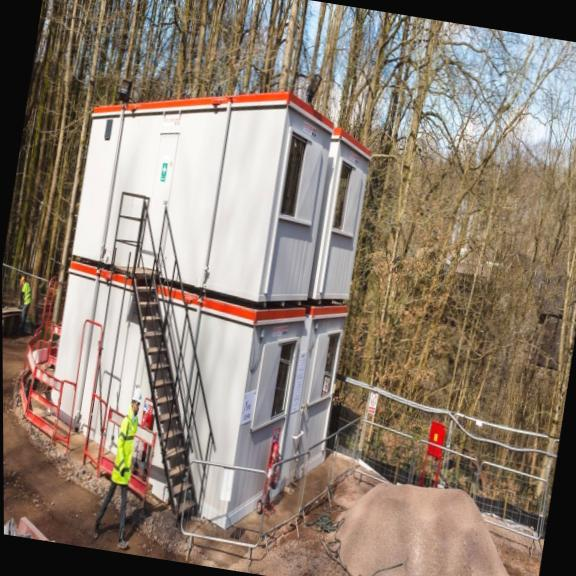safety_vest: (107, 411, 140, 488), (19, 280, 33, 310)
